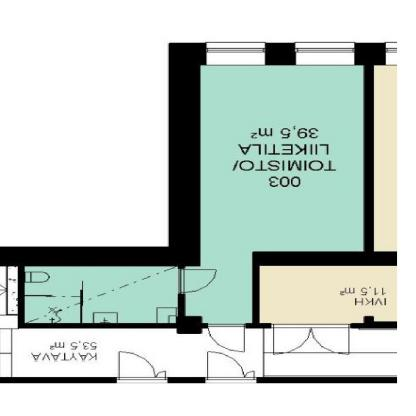door: (273, 323, 353, 358), (116, 351, 169, 382), (204, 325, 252, 356), (206, 353, 255, 382), (179, 270, 222, 294)
window: (295, 41, 356, 66), (207, 42, 265, 65), (386, 42, 404, 64)
zone: (176, 56, 368, 324), (13, 327, 263, 380), (26, 265, 178, 324), (257, 266, 396, 322), (264, 323, 396, 377), (371, 64, 399, 250)
